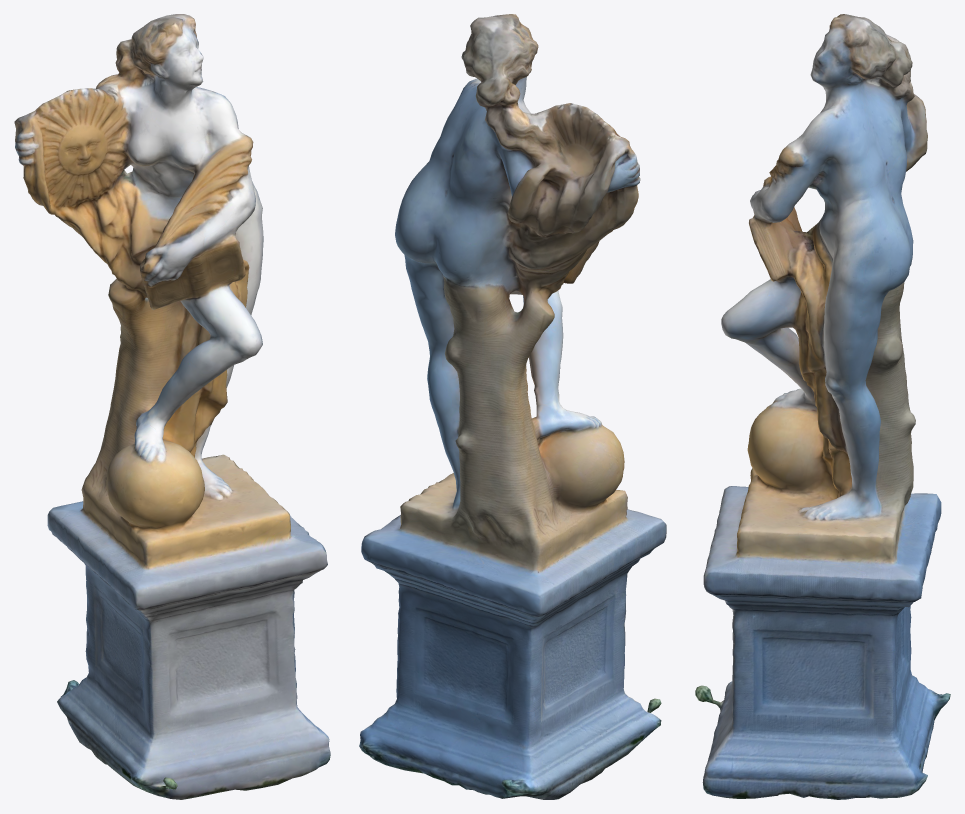
Rendered from Statue_3D.glb.
3 renders of one model, left to right at view 1: azimuth 30°, elevation 25°; view 2: azimuth 150°, elevation 25°; view 3: azimuth 270°, elevation 25°, orthographic. The views are drawn at different scales.
Visible parts, largest first — view 1: 3DModel; view 2: 3DModel; view 3: 3DModel.
Boxes of the visible parts, <box> form: 3DModel: <box>14,14,330,799</box>; 3DModel: <box>359,14,666,799</box>; 3DModel: <box>695,14,950,799</box>.
Size of the model in its own units: 1.22 by 3.4 by 1.06.
1 material, 1 textured.
